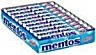grozi_43: (0, 1, 96, 53)
